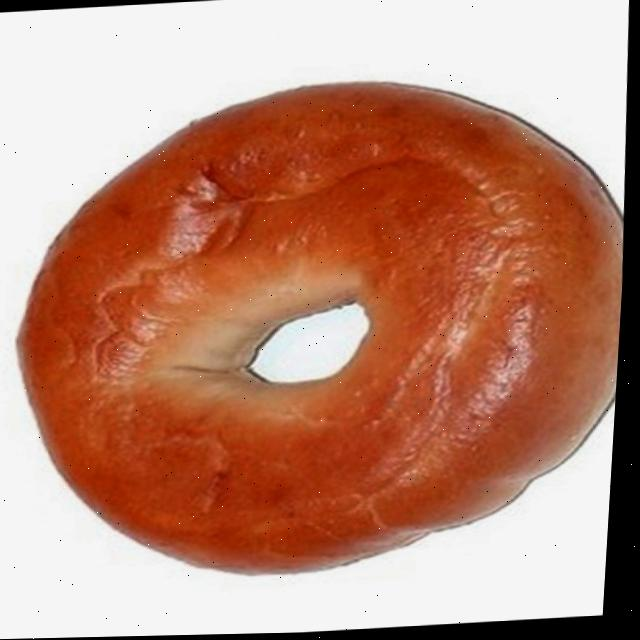面包点心: (0, 22, 638, 620)
